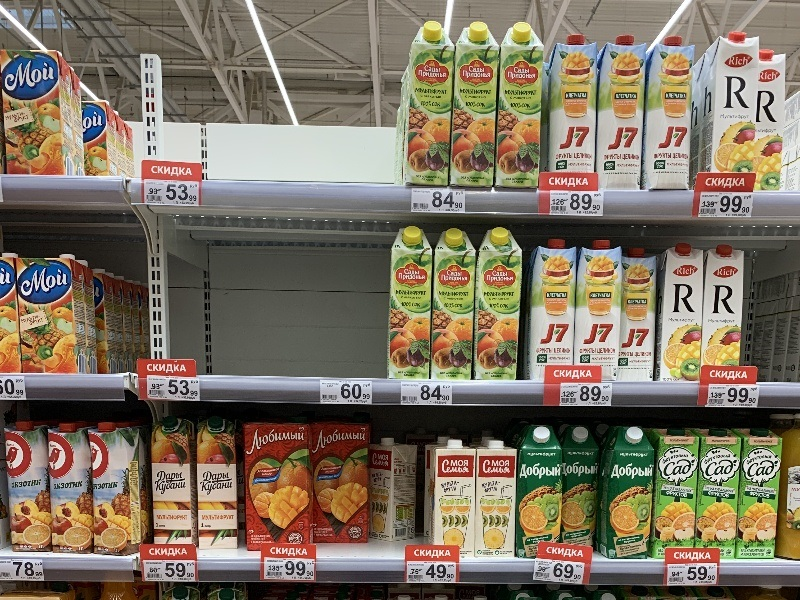juice: (444, 20, 513, 195), (239, 413, 315, 558), (302, 414, 377, 555), (491, 18, 548, 198), (402, 19, 460, 192), (383, 225, 443, 387), (16, 249, 89, 382), (644, 31, 702, 197), (82, 418, 150, 558), (596, 30, 650, 195), (44, 418, 104, 562), (550, 32, 603, 192), (711, 27, 760, 197), (600, 420, 657, 566), (427, 227, 480, 382), (476, 225, 526, 389), (2, 416, 59, 558), (657, 237, 710, 387), (145, 414, 200, 555), (513, 422, 568, 561), (734, 424, 786, 567), (190, 416, 244, 553), (526, 235, 576, 379), (576, 234, 624, 382), (697, 422, 745, 560)
